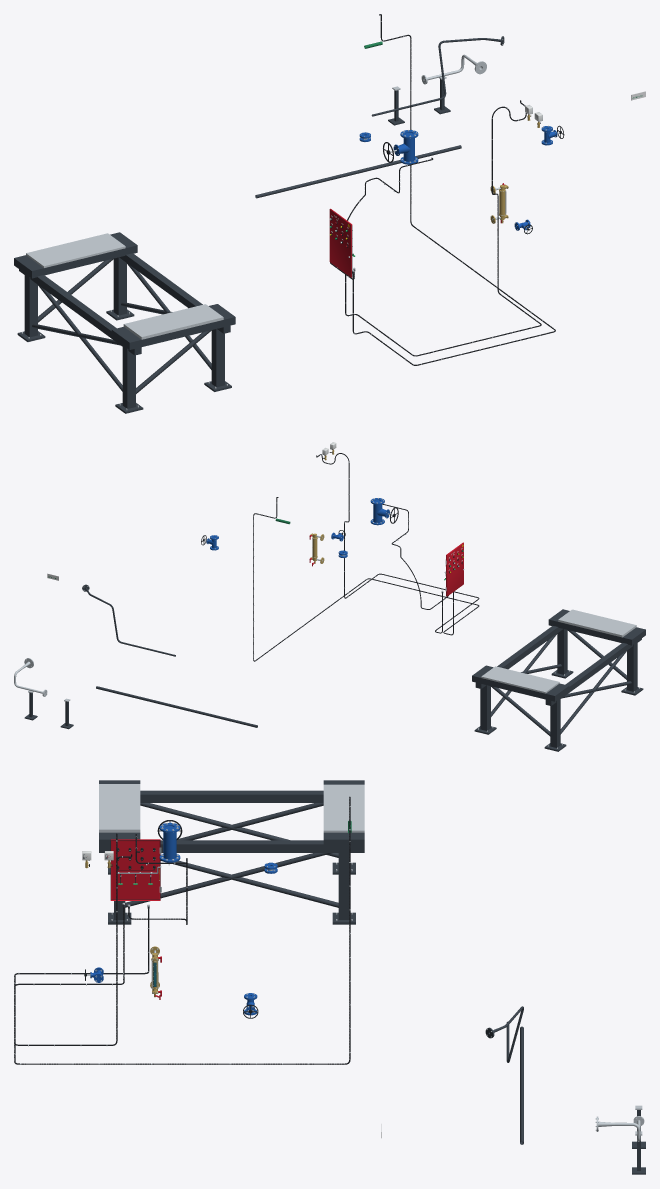
3 renders of one model, top to bottom at view 1: azimuth 30°, elevation 25°; view 2: azimuth 150°, elevation 25°; view 3: azimuth 270°, elevation 25°, orthographic. The views are drawn at different scales.
Visible parts, largest first — view 1: deaerator_support / dark, deaerator_support / steel, cabinet_door / cabinet_door_5.npz, mod_direct_drive_cable / black, wiring_pressure_transmitter / black, bottom_discharge / dark, steam_manual / blue, tds_without_fv / dark; view 2: deaerator_support / dark, deaerator_support / steel, cabinet_door / cabinet_door_5.npz, mod_direct_drive_cable / black, wiring_pressure_transmitter / black, bottom_discharge / dark; view 3: deaerator_support / dark, deaerator_support / steel, cabinet_door / cabinet_door_5.npz, mod_direct_drive_cable / black, wiring_pressure_transmitter / black, steam_manual / blue.
Part boxes in pixels (x1,y1,x2,y2): deaerator_support / dark: [14, 232, 235, 413]; deaerator_support / steel: [21, 233, 227, 410]; cabinet_door / cabinet_door_5.npz: [329, 208, 352, 277]; mod_direct_drive_cable / black: [352, 14, 555, 365]; wiring_pressure_transmitter / black: [345, 100, 541, 356]; bottom_discharge / dark: [255, 145, 461, 198]; steam_manual / blue: [393, 130, 418, 164]; tds_without_fv / dark: [371, 36, 504, 116]; deaerator_support / dark: [472, 609, 645, 751]; deaerator_support / steel: [478, 609, 639, 748]; cabinet_door / cabinet_door_5.npz: [445, 542, 464, 596]; mod_direct_drive_cable / black: [253, 497, 479, 661]; wiring_pressure_transmitter / black: [316, 453, 479, 633]; bottom_discharge / dark: [96, 686, 257, 727]; deaerator_support / dark: [99, 780, 364, 924]; deaerator_support / steel: [99, 784, 364, 920]; cabinet_door / cabinet_door_5.npz: [110, 839, 161, 900]; mod_direct_drive_cable / black: [14, 796, 350, 1064]; wiring_pressure_transmitter / black: [14, 833, 149, 1045]; steam_manual / blue: [159, 822, 180, 862].
Size of the model in its own units: 9.06 by 3.18 by 6.75.
